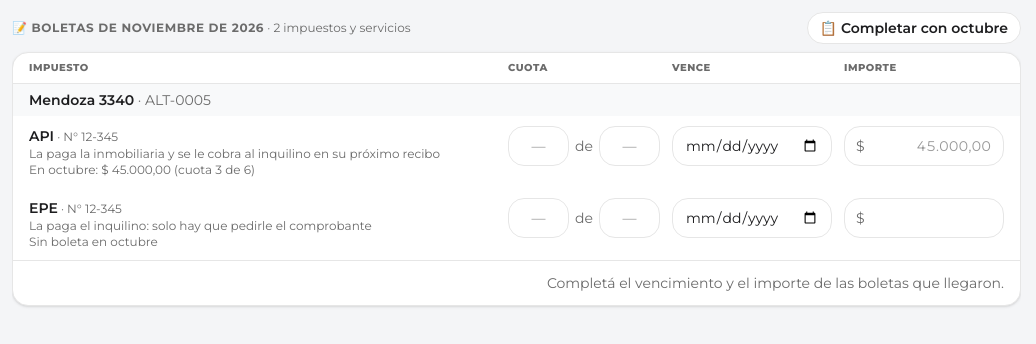
Test: «Cargar el mes» (reglas 51 y 52) › regla 52: después de guardar, el aviso no convive con un contador en cero
Click the button "📋 Completar con octubre": coordinates (914, 28) [806,12,1021,44]
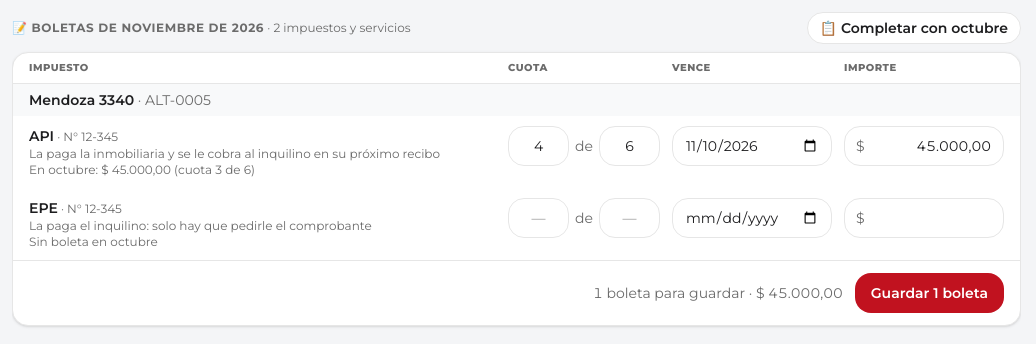
Click the button "Guardar 1 boleta": coordinates (929, 293) [855,273,1004,313]
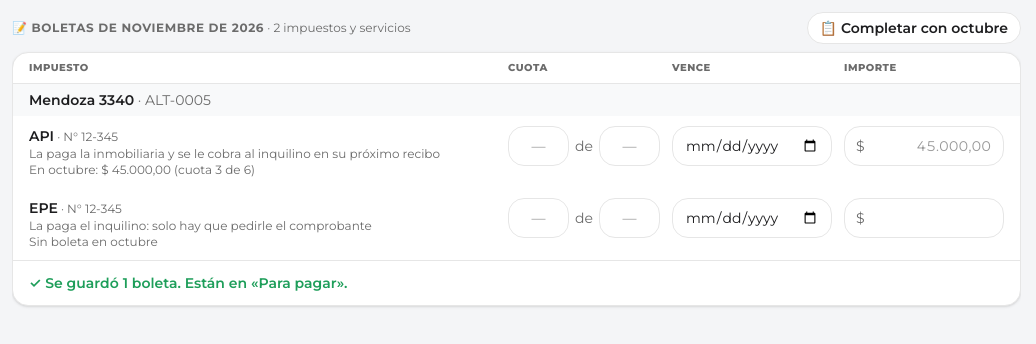
Result: the message shows "Se guardó 1 boleta." at [29,273,348,293]
Result: the button "Guardar" is gone
# Lo que se escribe después es otra tanda: el aviso se va y vuelve el contador.
In the field named "Importe de EPE de Mendoza 3340": coordinates (924, 218) [844,198,1004,238], type "30.000"
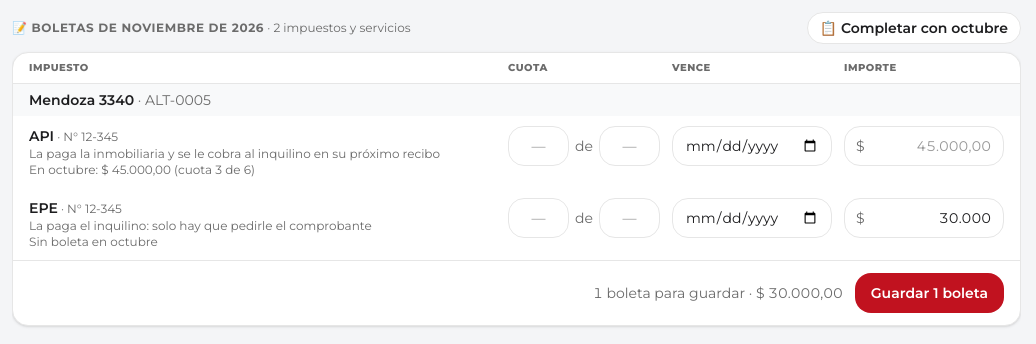
Result: the message "✓ Se guardó 1 boleta. Están en «Para pagar»." is gone
Result: the button "Guardar 1 boleta" is shown at [855,273,1004,313]
